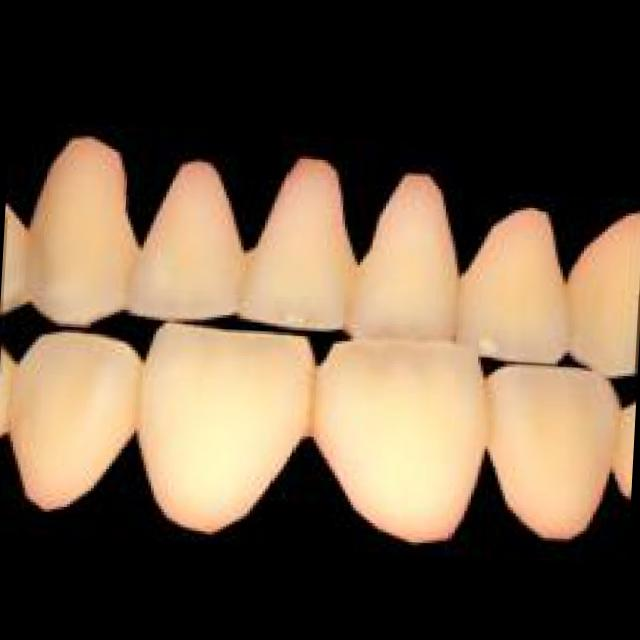cavity: (122, 364, 152, 431), (476, 382, 505, 450), (296, 379, 328, 440), (340, 264, 366, 330)
tooth: (306, 337, 502, 549), (142, 326, 319, 551), (2, 132, 144, 330), (3, 330, 139, 533), (477, 366, 620, 547), (444, 204, 580, 365), (350, 170, 470, 344), (128, 158, 250, 318), (251, 157, 360, 336), (572, 207, 640, 379)
